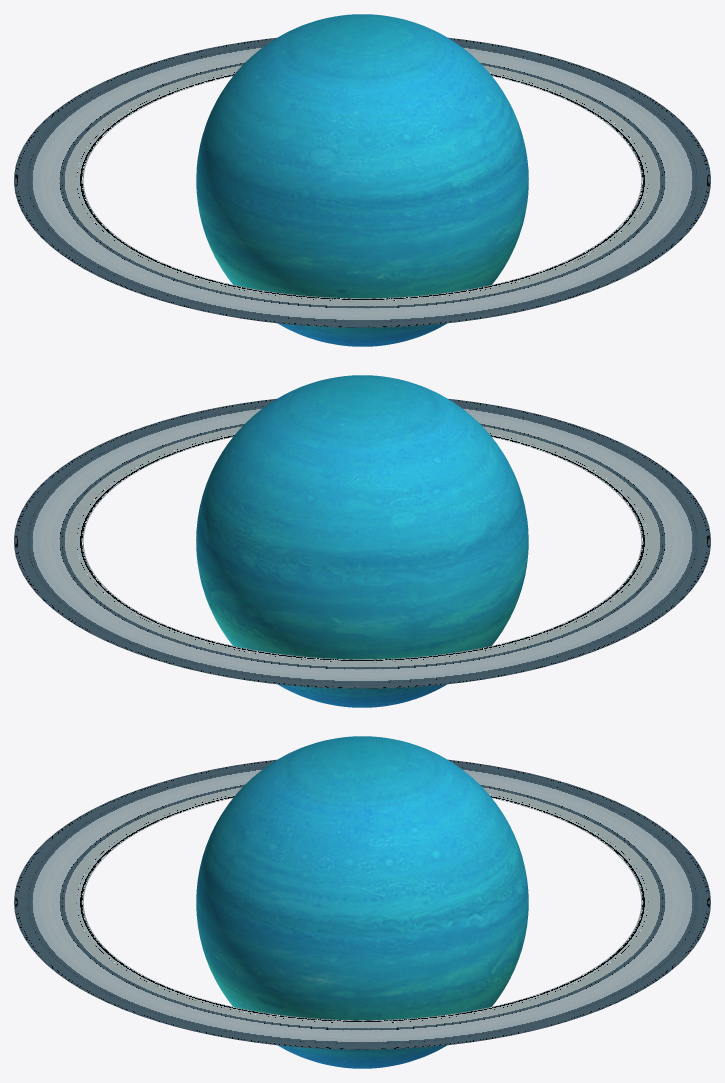
Rendered from Gardanah.fbx.
The picture shows the model from 3 angles, top to bottom: view 1: azimuth 30°, elevation 25°; view 2: azimuth 150°, elevation 25°; view 3: azimuth 270°, elevation 25°; orthographic projection.
Visible parts, largest first — view 1: Esfera, Plano; view 2: Esfera, Plano; view 3: Esfera, Plano.
Boxes of the visible parts, left/top/right/bottom form: Esfera: left=196, top=14, right=528, bottom=346; Plano: left=14, top=37, right=710, bottom=327; Esfera: left=196, top=375, right=528, bottom=707; Plano: left=14, top=398, right=710, bottom=688; Esfera: left=196, top=736, right=528, bottom=1068; Plano: left=14, top=759, right=710, bottom=1049.
Bounding box in the file's own units: 4191 × 2000 × 4191.
Materials: 2 (2 with a texture image).
